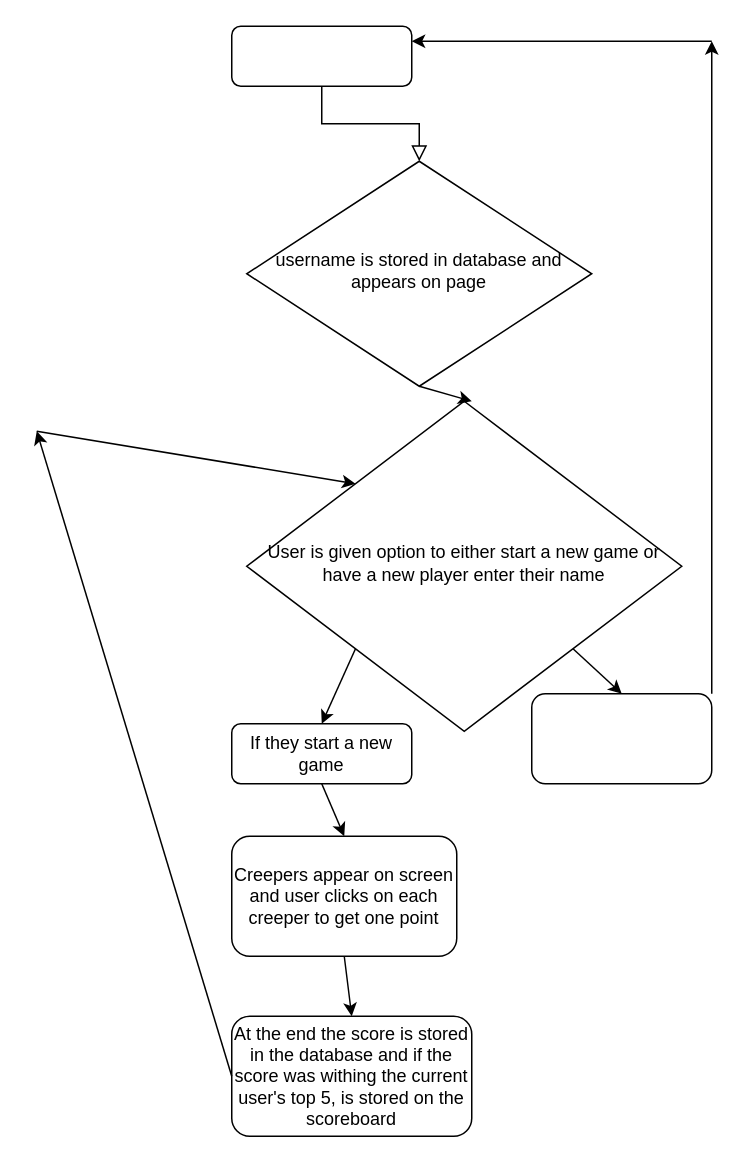
Some shapes in this 750 by 1163 pixel diagram are drawn without their labels. The shapes that lost their labels are listed below. From the top down, each one's centre as x and y in pixels, then its label:
At pixel 321 55: "User enters desired username".
At pixel 621 738: "If they click new player".
